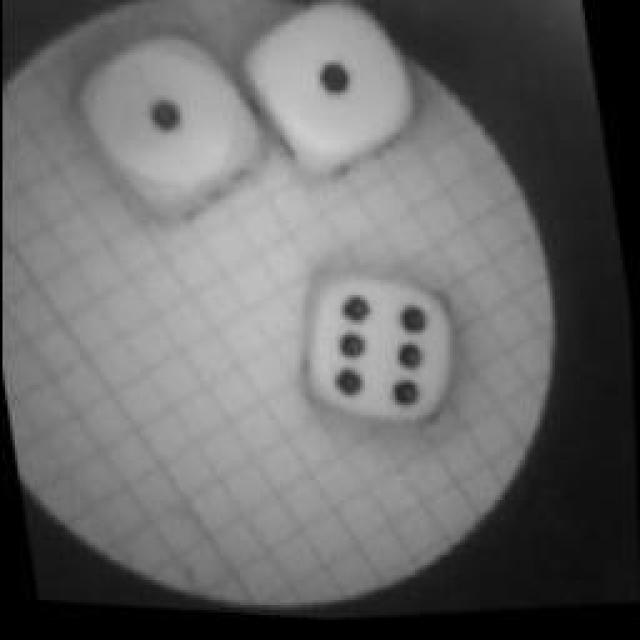dice_1: (69, 19, 284, 249), (236, 0, 439, 195)
dice_6: (288, 260, 474, 445)
